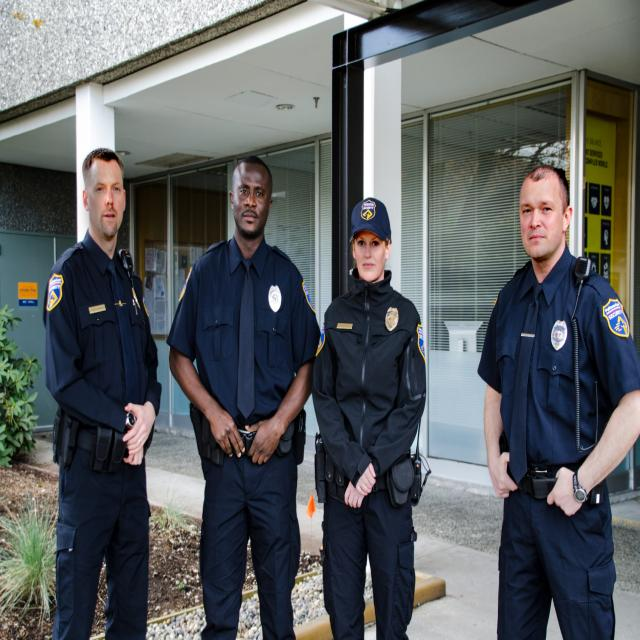police: (478, 138, 640, 640), (167, 140, 320, 640), (314, 172, 450, 640), (42, 146, 164, 640)
